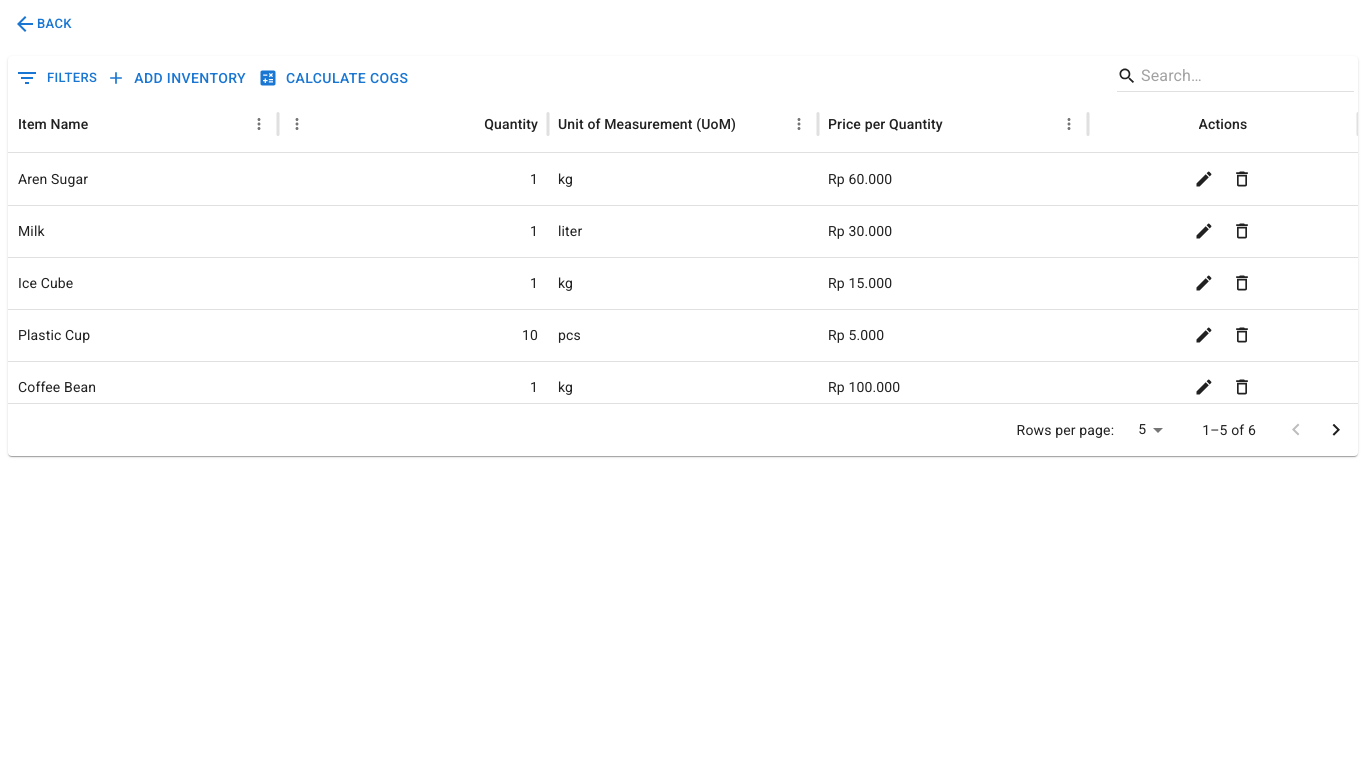
Test case: inventory › calculate cogs modal › should render validation error message correctly
Click the button "Calculate Cogs".
click(335, 79)  # box [254, 60, 416, 97]
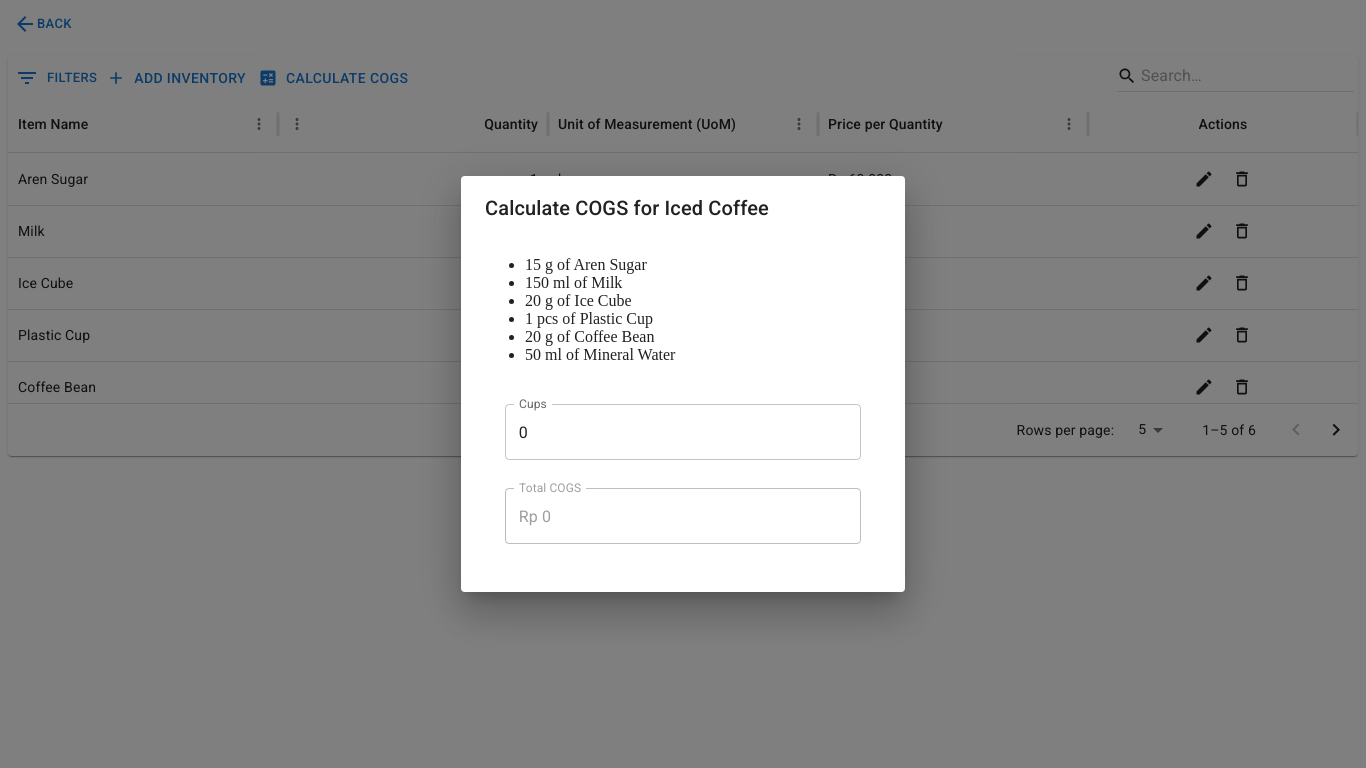
Check: the element with test id "calculate-cogs-modal" is shown
Replace the text in the number field named "cups" with "-1" at (683, 432), box [505, 404, 861, 460]
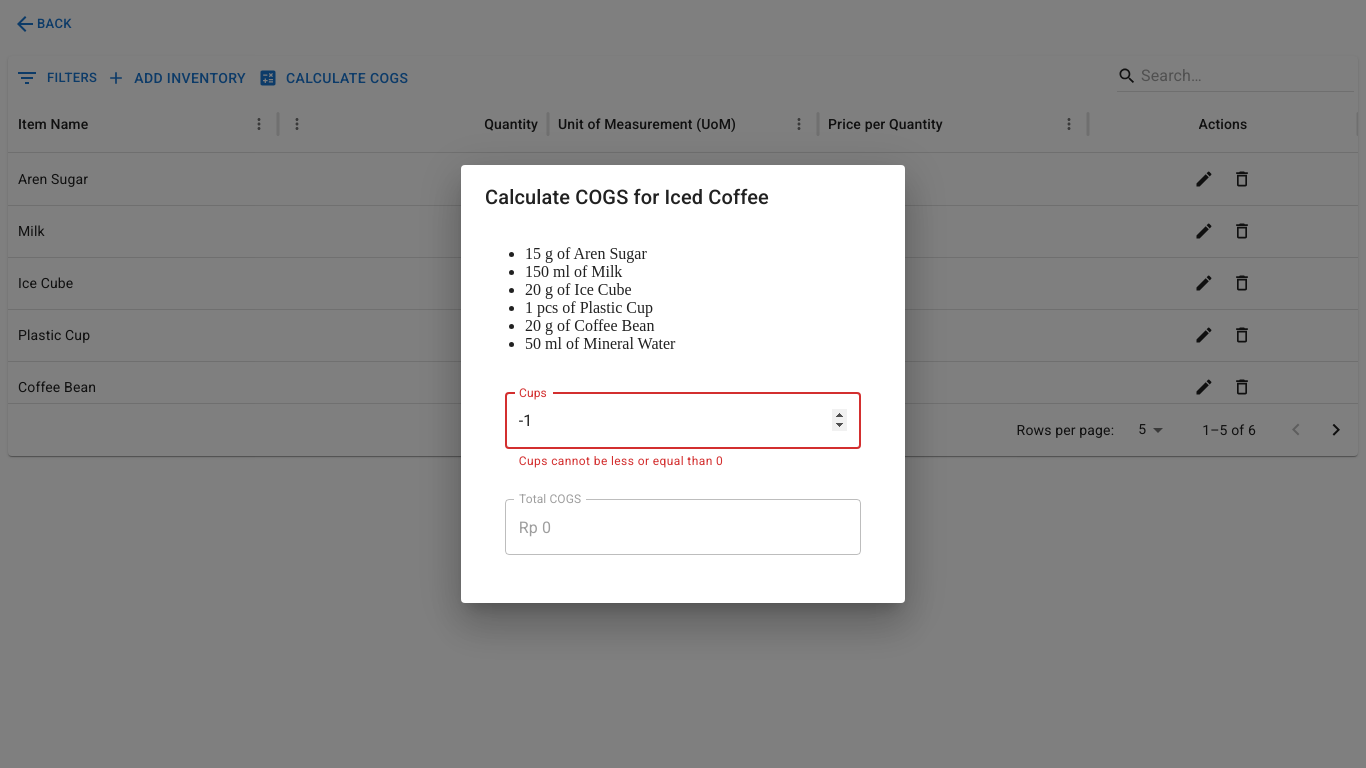
Check: the text "Cups cannot be less or equal than 0" is shown, box [519, 454, 723, 468]
